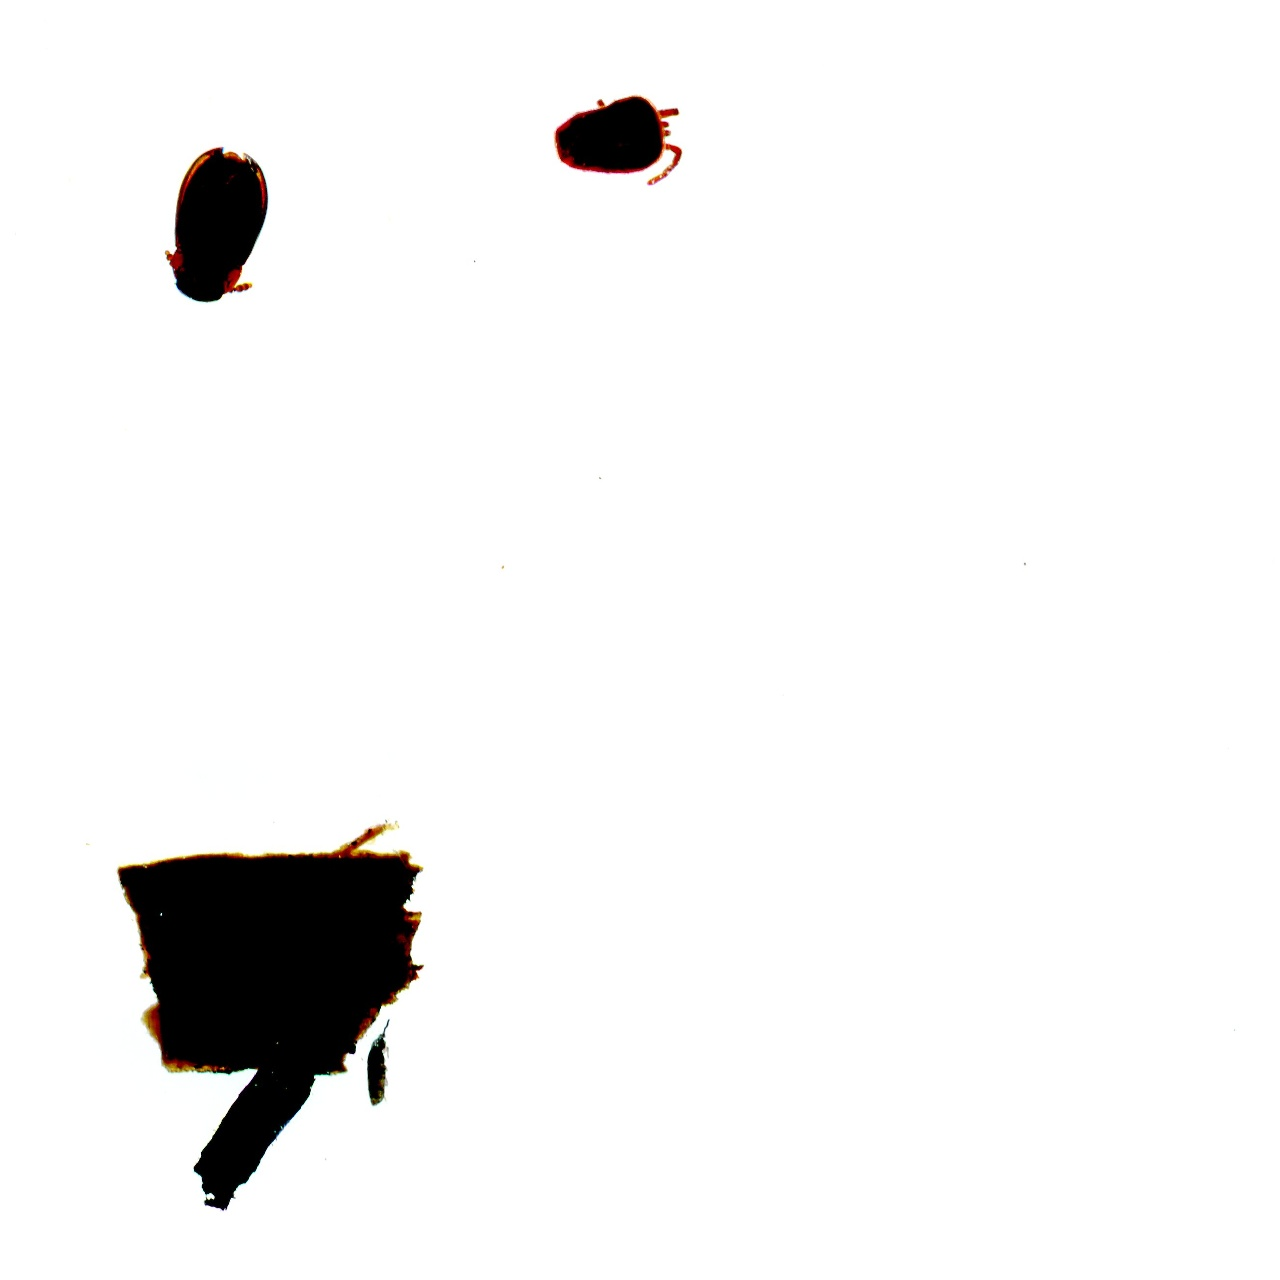arthropod: (158, 138, 275, 307), (545, 90, 687, 189), (363, 1017, 399, 1111)
